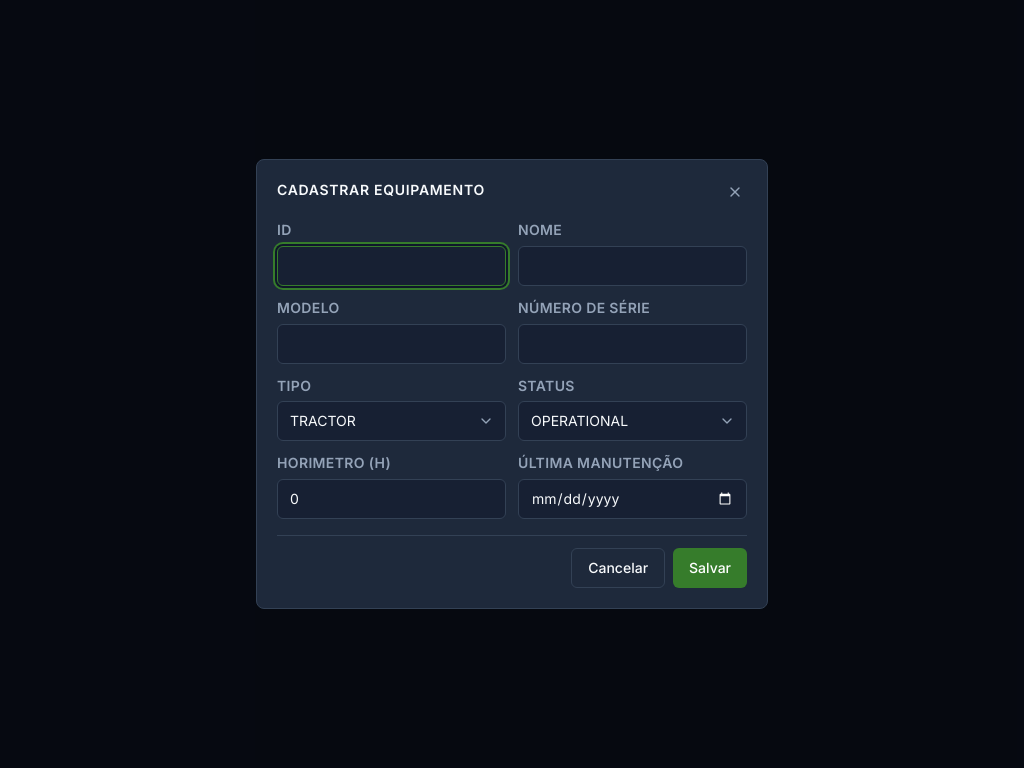
it: RegisterModal › renders the backend error message on failure
The image size is (1024, 768).
Type "TRAC-DUP" into the field labelled "ID" at (392, 266), box top-left (277, 246), bottom-right (506, 286)
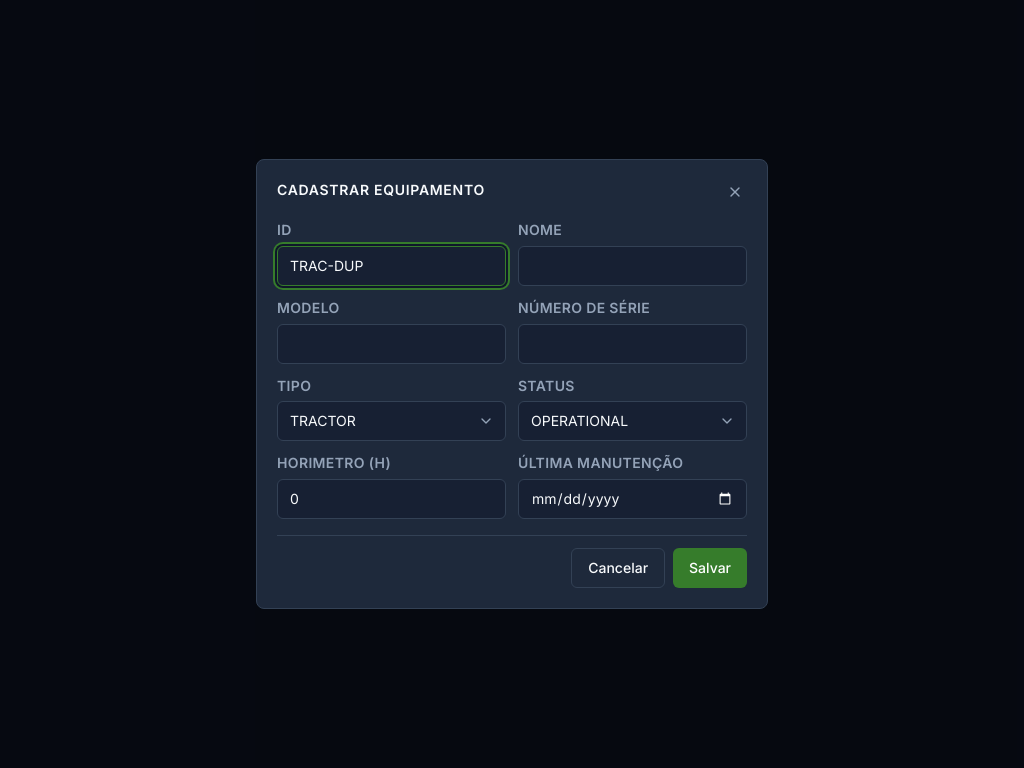
Type "Dup" into the field labelled "Nome" at (632, 266), box top-left (518, 246), bottom-right (747, 286)
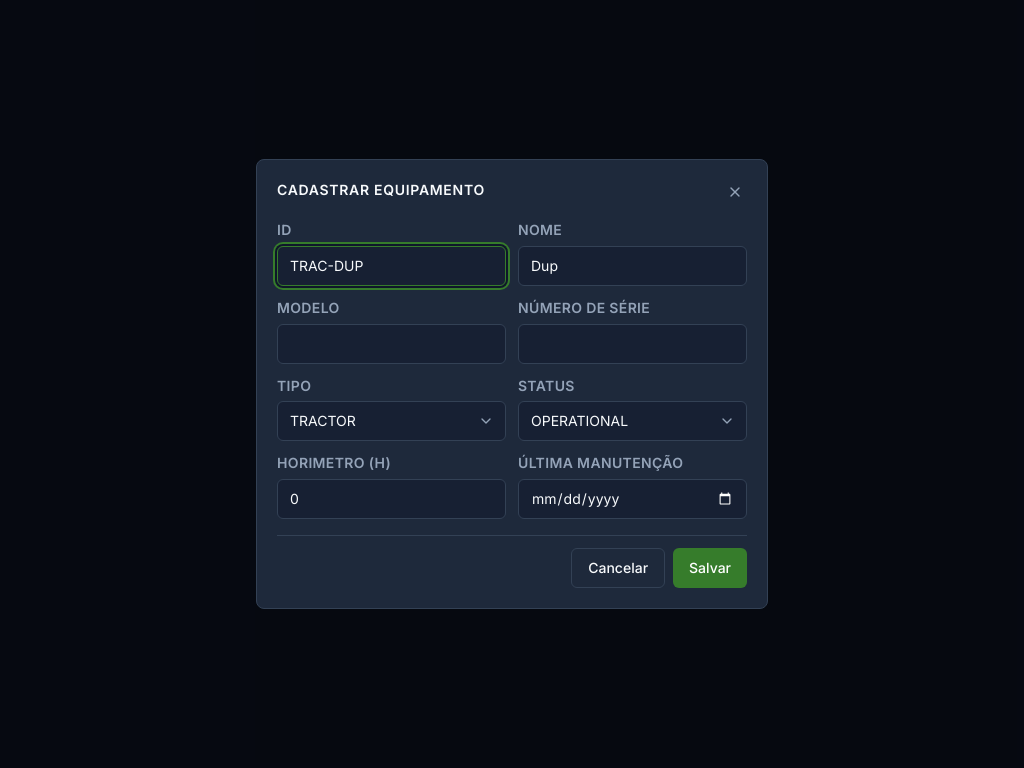
Type "M" into the field labelled "Modelo" at (392, 344), box top-left (277, 324), bottom-right (506, 364)
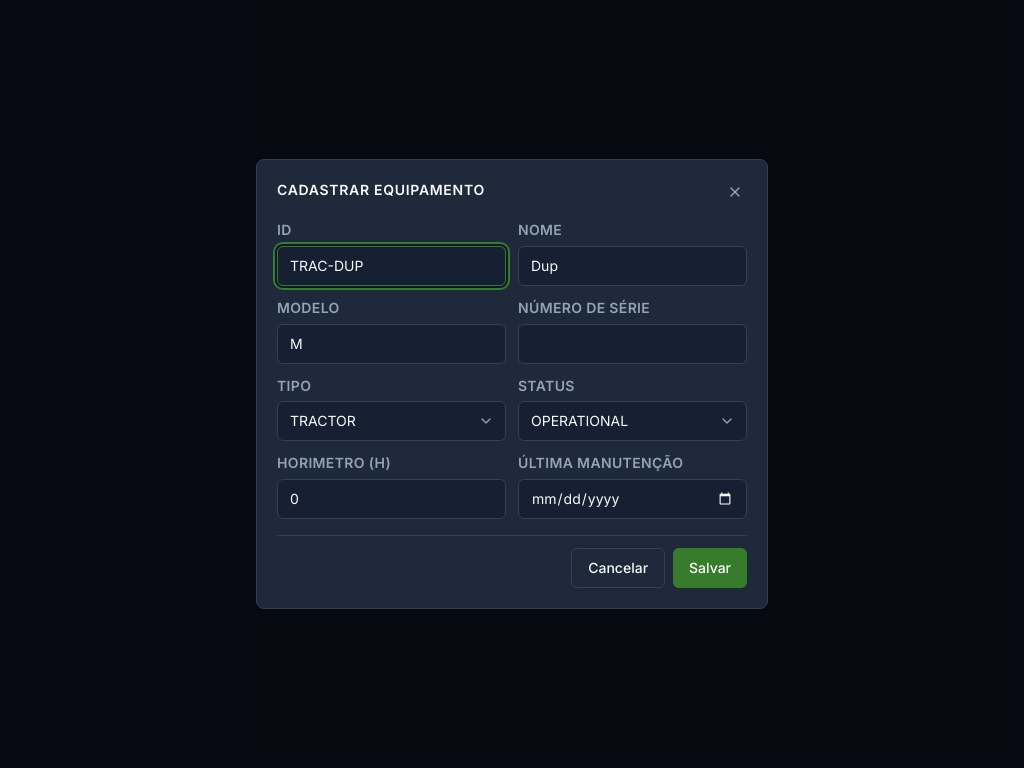
Type "SN" into the field labelled "Número de série" at (632, 344), box top-left (518, 324), bottom-right (747, 364)
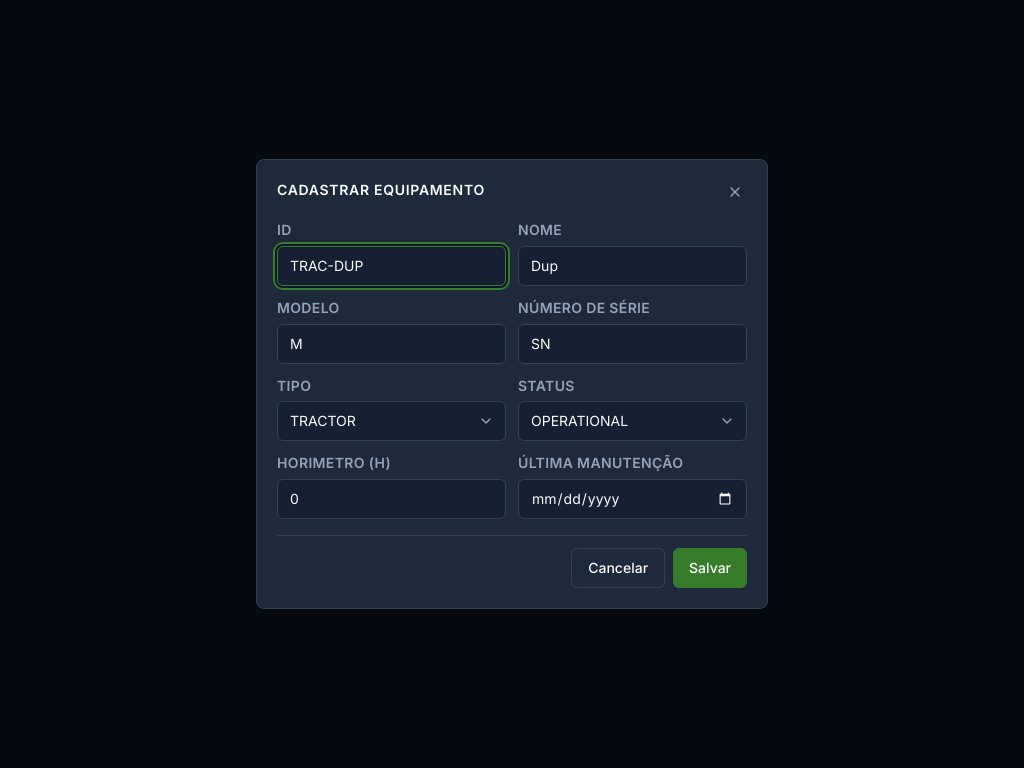
Click the button "Salvar" at (710, 568), box top-left (673, 548), bottom-right (747, 588)
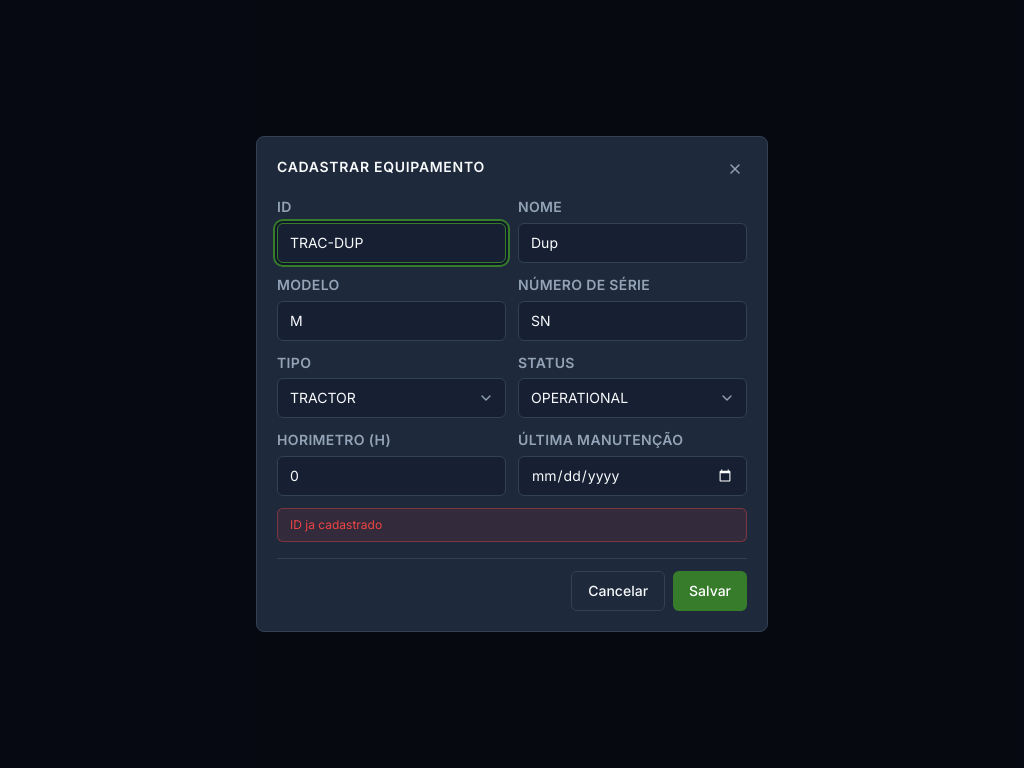
Expected: the message reads "ID ja cadastrado", top-left (290, 517), bottom-right (382, 532)
